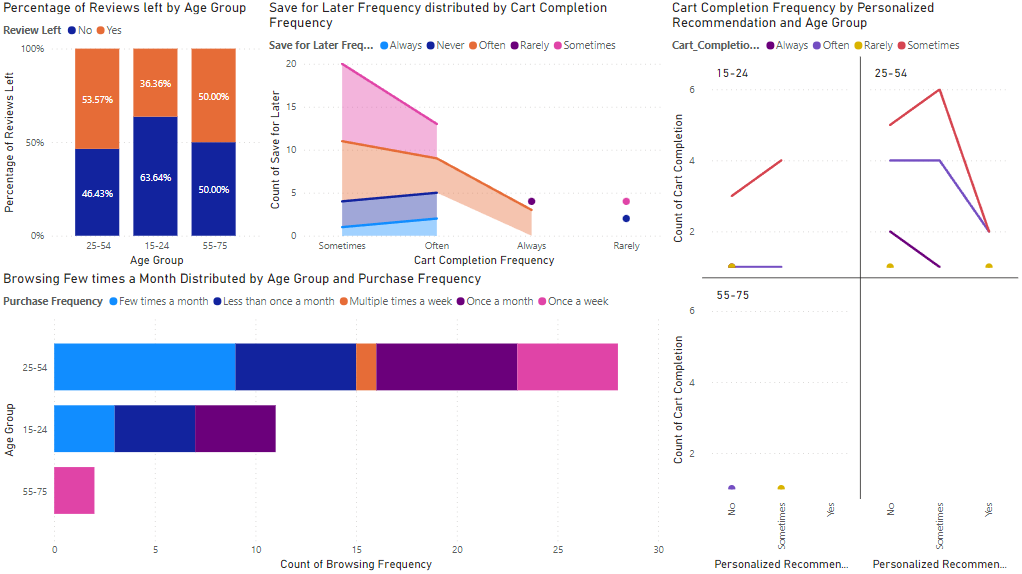

The page's visual inventory and layout, read from the dashboard file:
{"tool":"powerbi","page":{"name":"Male","canvas":[1280,720],"ordinal":2},"visuals":[{"type":"hundredPercentStackedColumnChart","title":"Percentage of Reviews left by Age Group","fields":{"Category":["updated_male_few_times.age_group"],"Y":["CountNonNull(updated_male_few_times.Review_Left)"],"Series":["updated_male_few_times.Review_Left"]},"box":[0,0,332.5,338.8],"z":0},{"type":"stackedAreaChart","title":"Save for Later Frequency distributed by Cart Completion Frequency","fields":{"Y":["CountNonNull(updated_male_few_times.Saveforlater_Frequency)"],"Category":["updated_male_few_times.Cart_Completion_Frequency"],"Series":["updated_male_few_times.Saveforlater_Frequency"]},"box":[332.5,0,503.8,338.8],"z":1000},{"type":"lineChart","title":"Cart Completion Frequency by Personalized Recommendation and Age Group","fields":{"Category":["updated_male_few_times.Personalized_Recommendation_Frequency"],"Y":["CountNonNull(updated_male_few_times.Cart_Completion_Frequency)"],"Series":["updated_male_few_times.Cart_Completion_Frequency"],"Rows":["updated_male_few_times.age_group"]},"box":[836.2,0,443.8,720],"z":2000},{"type":"barChart","title":"Browsing Few times a Month Distributed by Age Group and Purchase Frequency","fields":{"Category":["updated_male_few_times.age_group"],"Y":["CountNonNull(updated_male_few_times.Browsing_Frequency)"],"Series":["updated_male_few_times.Purchase_Frequency"]},"box":[0,338.8,836.2,381.2],"z":3000}]}

Visuals, with their boxes in screenshot pixels (x1, y1, x2, y2), scaled from the page's 1280x720 canvas onto the 1022x574 screenshot:
"Percentage of Reviews left by Age Group" hundredPercentStackedColumnChart: (0, 0, 265, 270)
"Save for Later Frequency distributed by Cart Completion Frequency" stackedAreaChart: (265, 0, 668, 270)
"Cart Completion Frequency by Personalized Recommendation and Age Group" lineChart: (668, 0, 1021, 573)
"Browsing Few times a Month Distributed by Age Group and Purchase Frequency" barChart: (0, 270, 668, 573)
